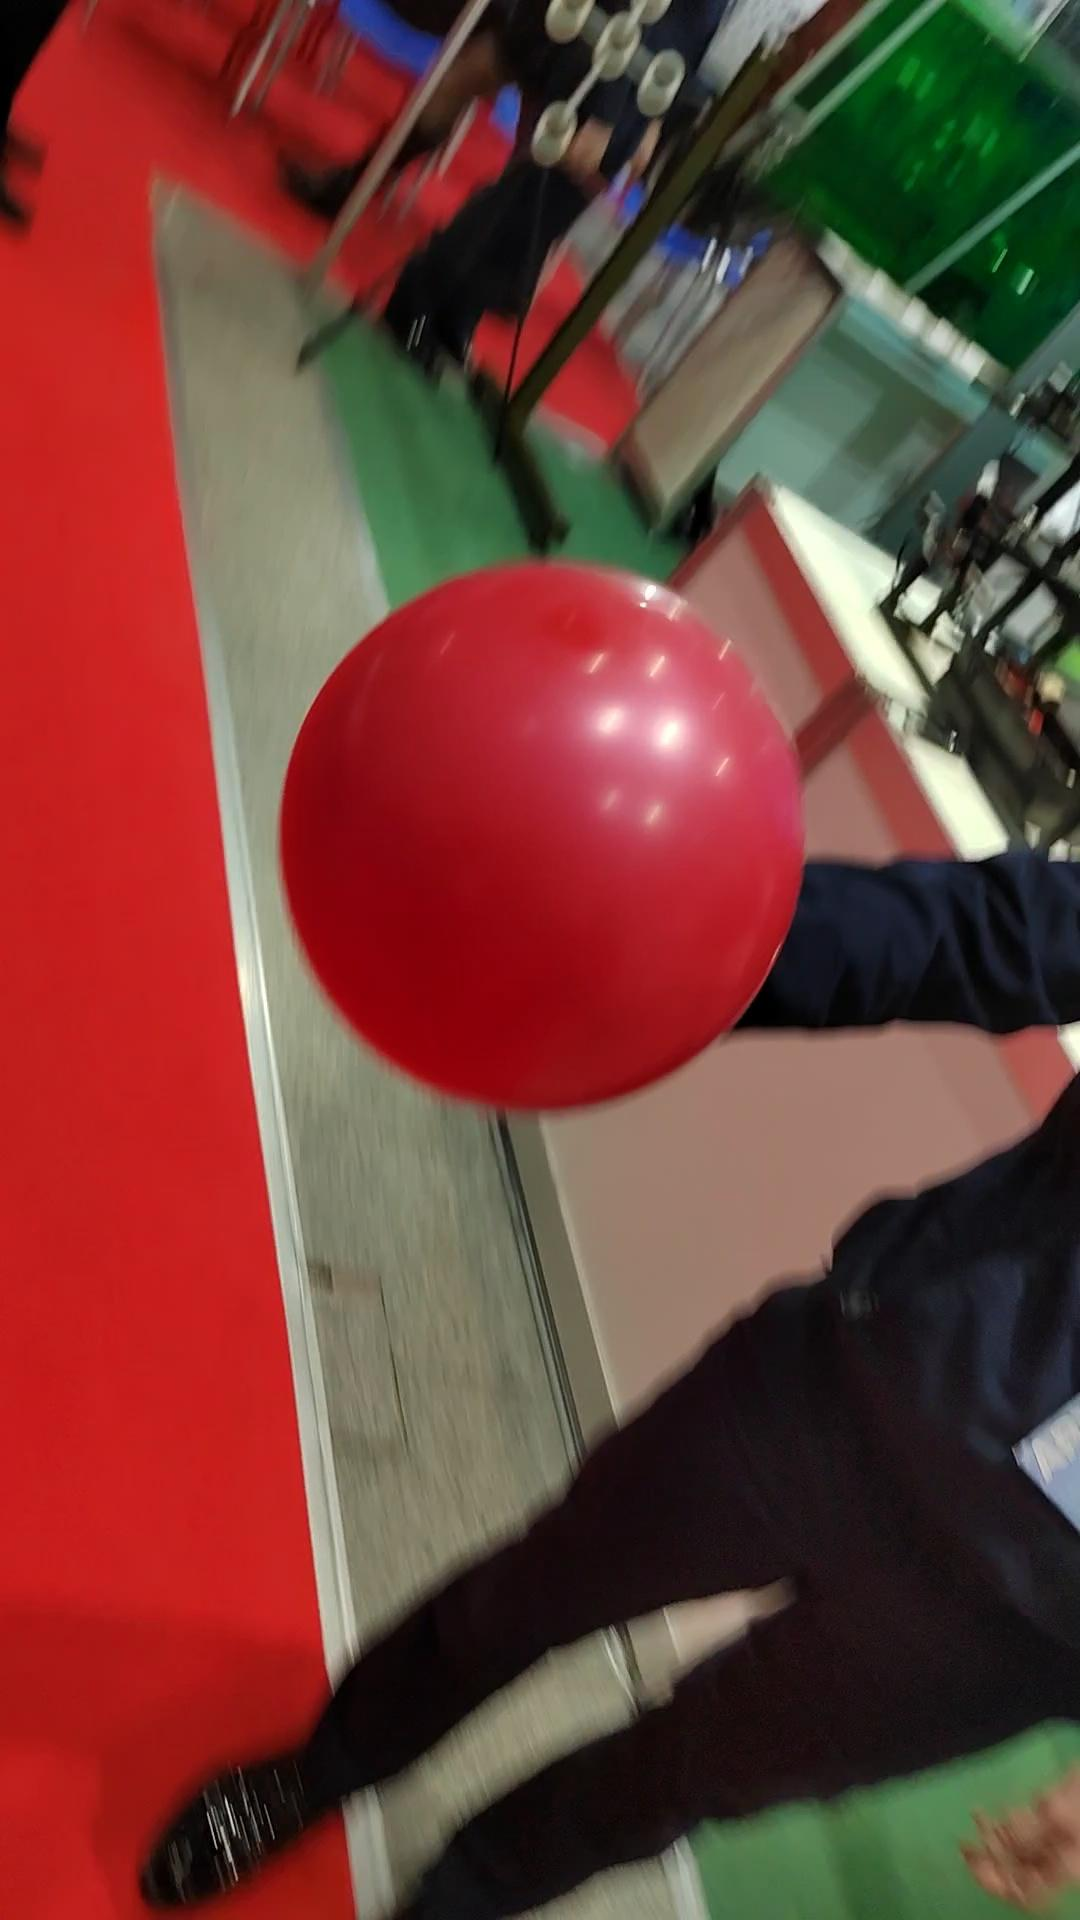red: (265, 550, 823, 1130)
